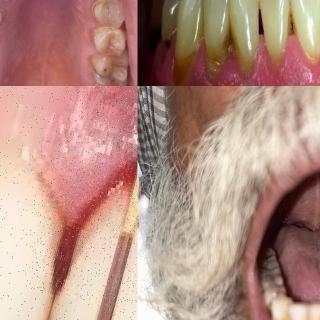Gum Swelling: (159, 34, 247, 86), (248, 36, 313, 86)
calculus: (287, 316, 320, 320)
cavities: (146, 15, 163, 54), (92, 61, 111, 84), (103, 80, 121, 86)
plaque: (89, 25, 118, 55), (89, 0, 117, 25), (0, 1, 8, 23)
stains: (285, 1, 301, 49)
